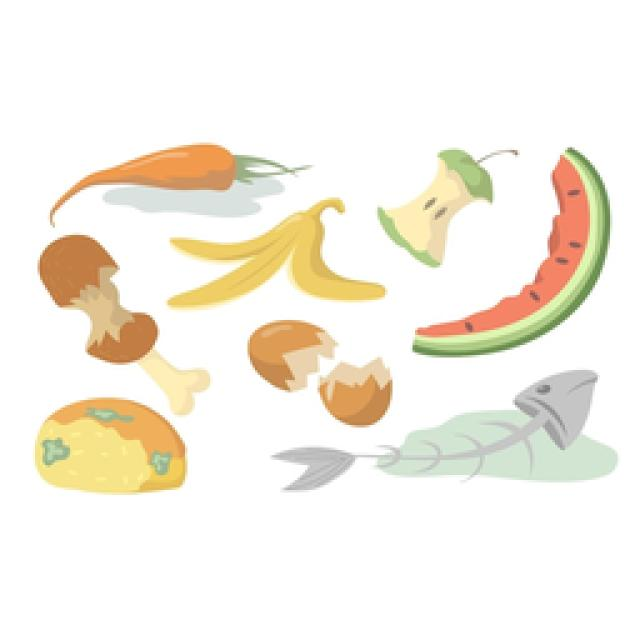food_waste: (415, 150, 608, 350), (272, 370, 595, 488), (40, 235, 208, 412), (170, 200, 382, 305), (50, 145, 292, 222), (248, 320, 388, 420), (378, 150, 490, 265)
